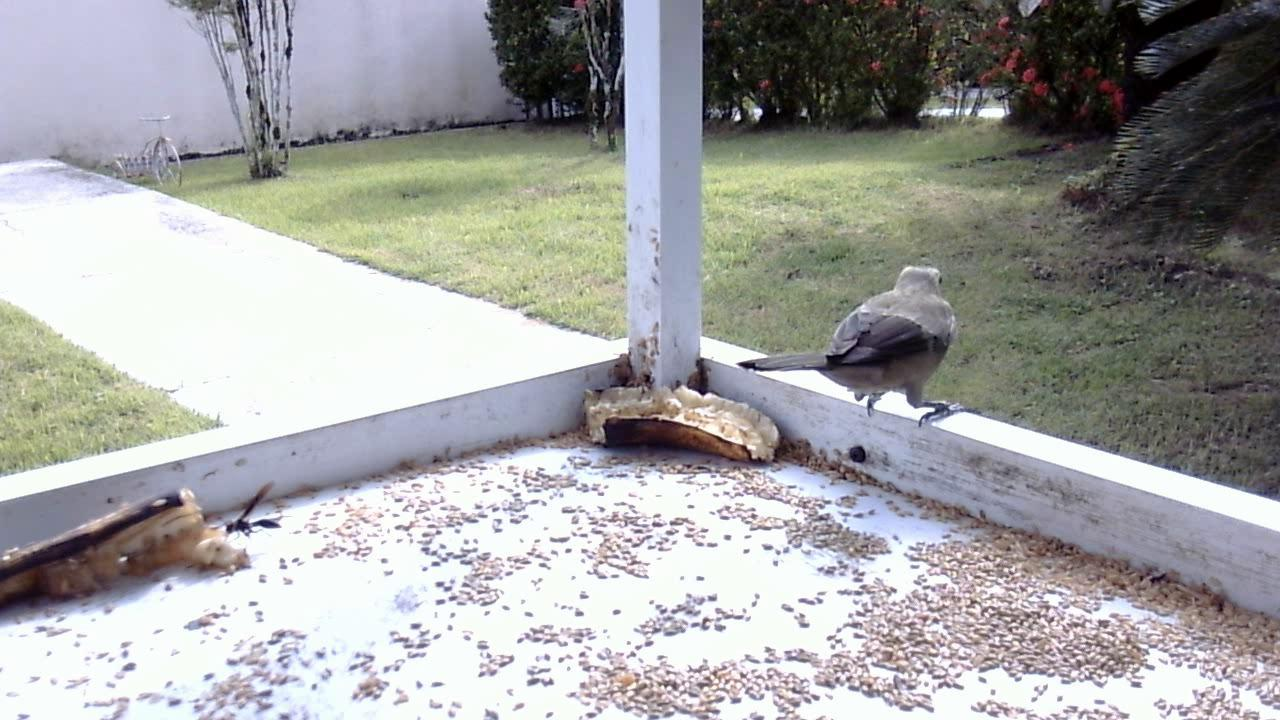sanhaco_do_coqueiro: (734, 258, 977, 441)
